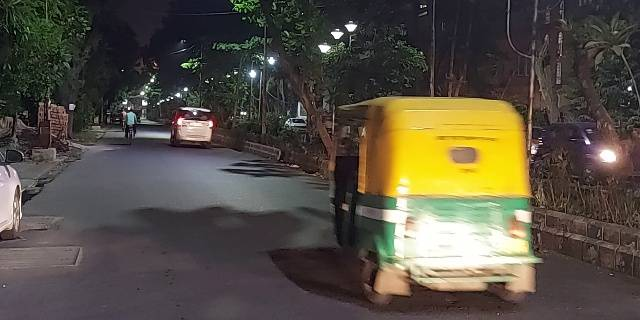Autorickshaw: (331, 96, 532, 303)
Car: (172, 105, 214, 147)
